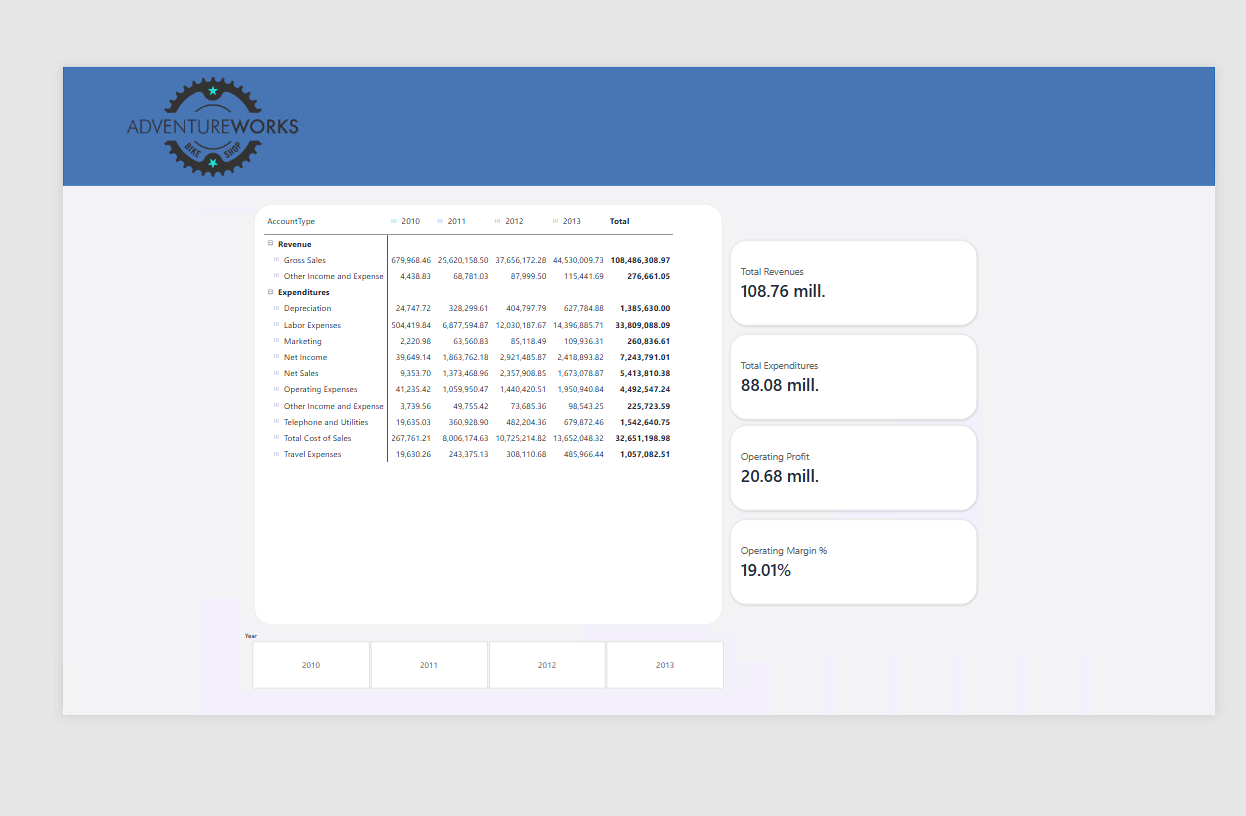

The page's visual inventory and layout, read from the dashboard file:
{"tool":"powerbi","page":{"name":"Página 1","canvas":[1920,1080],"ordinal":0},"visuals":[{"type":"slicer","fields":{"Values":["vw_DimDate.Year"]},"box":[295.5,941.2,825,96.2],"z":0},{"type":"shape","box":[0,0,1920,198.4],"z":1000},{"type":"image","box":[75.3,8,350.2,182.4],"z":2000},{"type":"cardVisual","fields":{"Data":["Medidas.Total Revenues"]},"box":[1111.8,288.3,412.2,143.3],"z":3000},{"type":"cardVisual","fields":{"Data":["Medidas.Total Expenditures"]},"box":[1111.8,445,412.2,143.3],"z":4000},{"type":"cardVisual","fields":{"Data":["Medidas.Operating Margin %"]},"box":[1111.8,752.7,412.2,143.3],"z":5000},{"type":"cardVisual","fields":{"Data":["Medidas.Operating Profit"]},"box":[1111.8,597.2,412.2,143.3],"z":6000},{"type":"pivotTable","fields":{"Columns":["vw_DimDate.Date.Variation.Jerarquía de fechas.Año","vw_DimDate.Date.Variation.Jerarquía de fechas.Trimestre","vw_DimDate.Date.Variation.Jerarquía de fechas.Mes","vw_DimDate.Date.Variation.Jerarquía de fechas.Día"],"Rows":["vw_DimAccount.AccountType","vw_DimAccount.AccountLevel1","vw_DimAccount.AccountLevel2"],"Values":["Medidas.Actual"]},"box":[318,227.5,780.5,701.8],"z":7000}]}

Visuals, with their boxes on the page's 1920x1080 design canvas (x1, y1, x2, y2). These are canvas units, not pixel positions in the 1246x816 screenshot, which may show the page scaled, cropped or inside an application window:
slicer - vw_DimDate.Year: <bbox>296, 941, 1120, 1037</bbox>
shape: <bbox>0, 0, 1920, 198</bbox>
image: <bbox>75, 8, 426, 190</bbox>
cardVisual - Medidas.Total Revenues: <bbox>1112, 288, 1524, 432</bbox>
cardVisual - Medidas.Total Expenditures: <bbox>1112, 445, 1524, 588</bbox>
cardVisual - Medidas.Operating Margin %: <bbox>1112, 753, 1524, 896</bbox>
cardVisual - Medidas.Operating Profit: <bbox>1112, 597, 1524, 740</bbox>
pivotTable - vw_DimDate.Date.Variation.Jerarquía de fechas.Año x vw_DimDate.Date.Variation.Jerarquía de fechas.Trimestre: <bbox>318, 228, 1098, 929</bbox>
